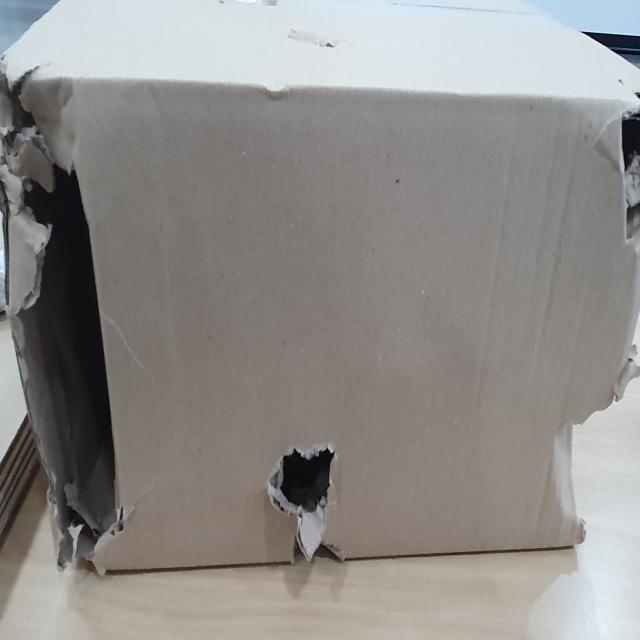hole: (1, 64, 123, 576), (264, 435, 342, 572), (604, 85, 640, 251)
